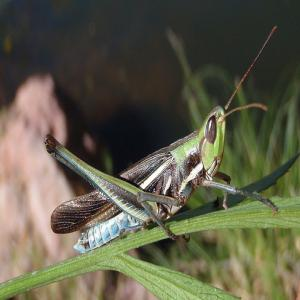locust: (17, 87, 271, 256)
